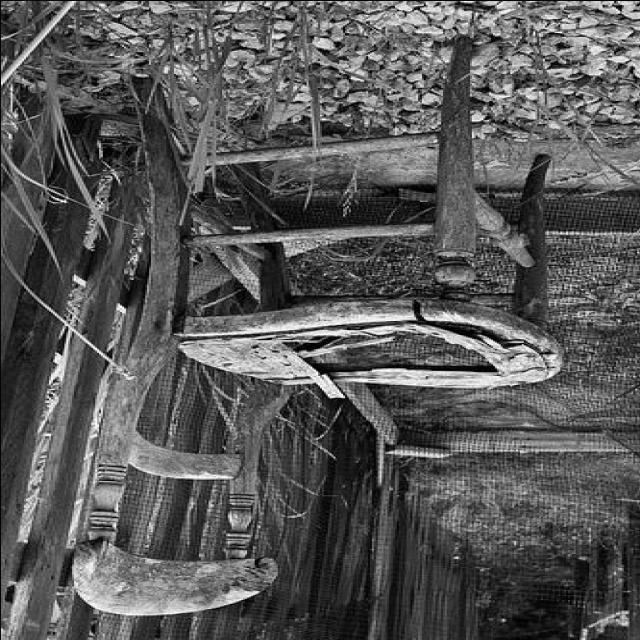chair: (69, 39, 553, 619)
